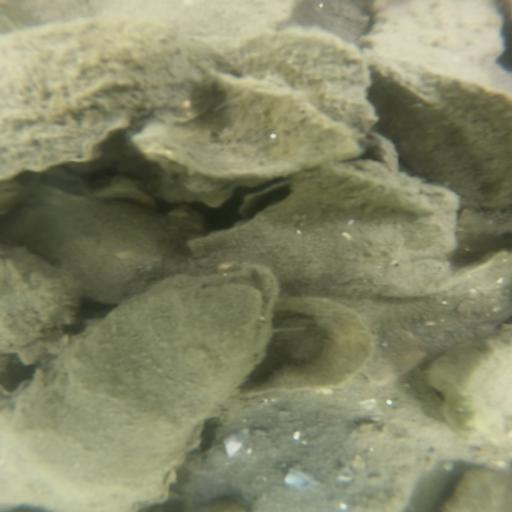Oyster-Closed: (191, 170, 455, 303), (5, 17, 216, 171), (177, 405, 438, 512), (369, 48, 512, 238), (215, 27, 384, 144), (15, 191, 173, 302), (362, 1, 512, 83), (1, 239, 80, 359), (298, 166, 436, 217), (439, 471, 505, 512)
Oyster-Open: (1, 266, 282, 512)
